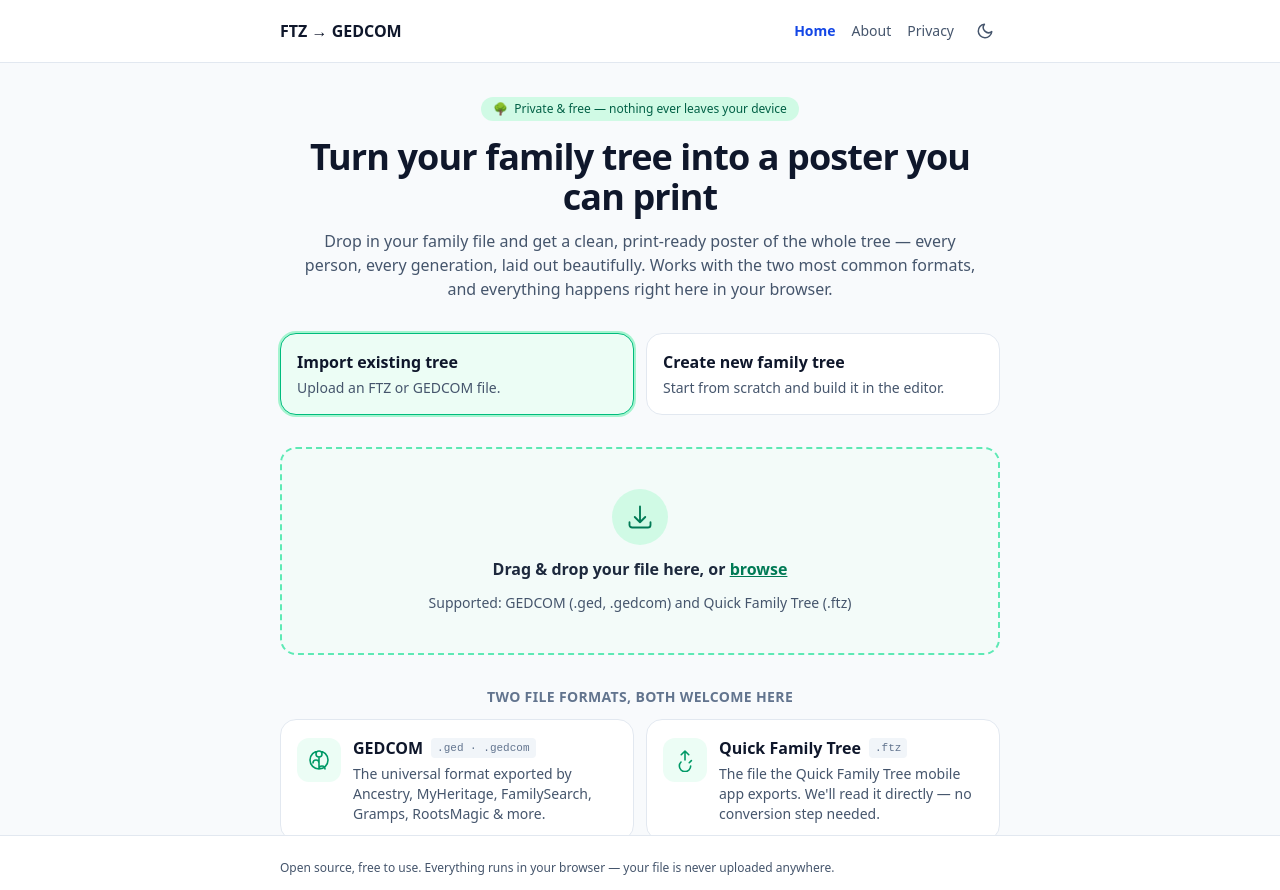
Create new family tree › walks the wizard and lands in the editor with the new root person
Click the button "Create new family tree": click(823, 374) top-left (646, 333), bottom-right (1000, 415)
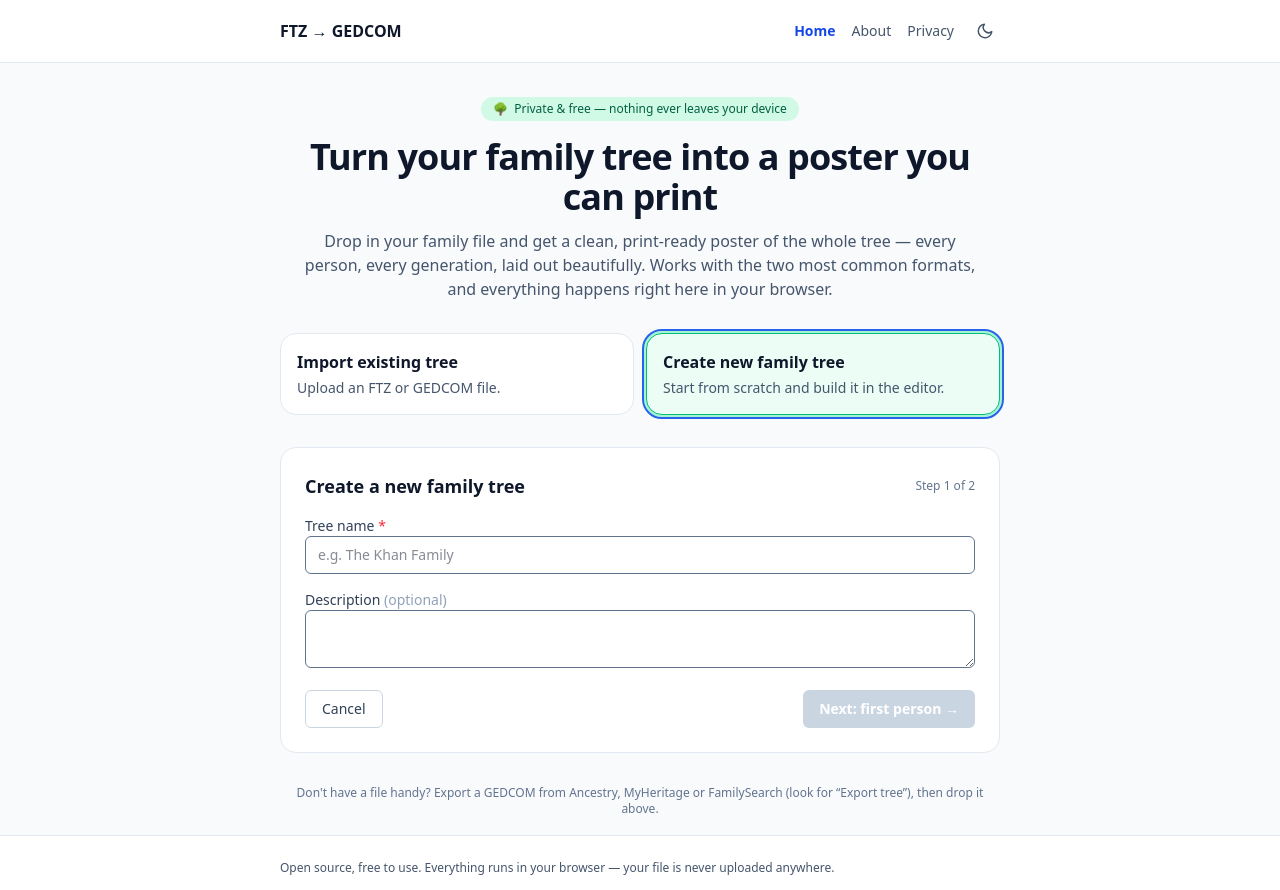
In the field labelled "Tree name *": (640, 555) top-left (305, 536), bottom-right (975, 574), type "My Family"
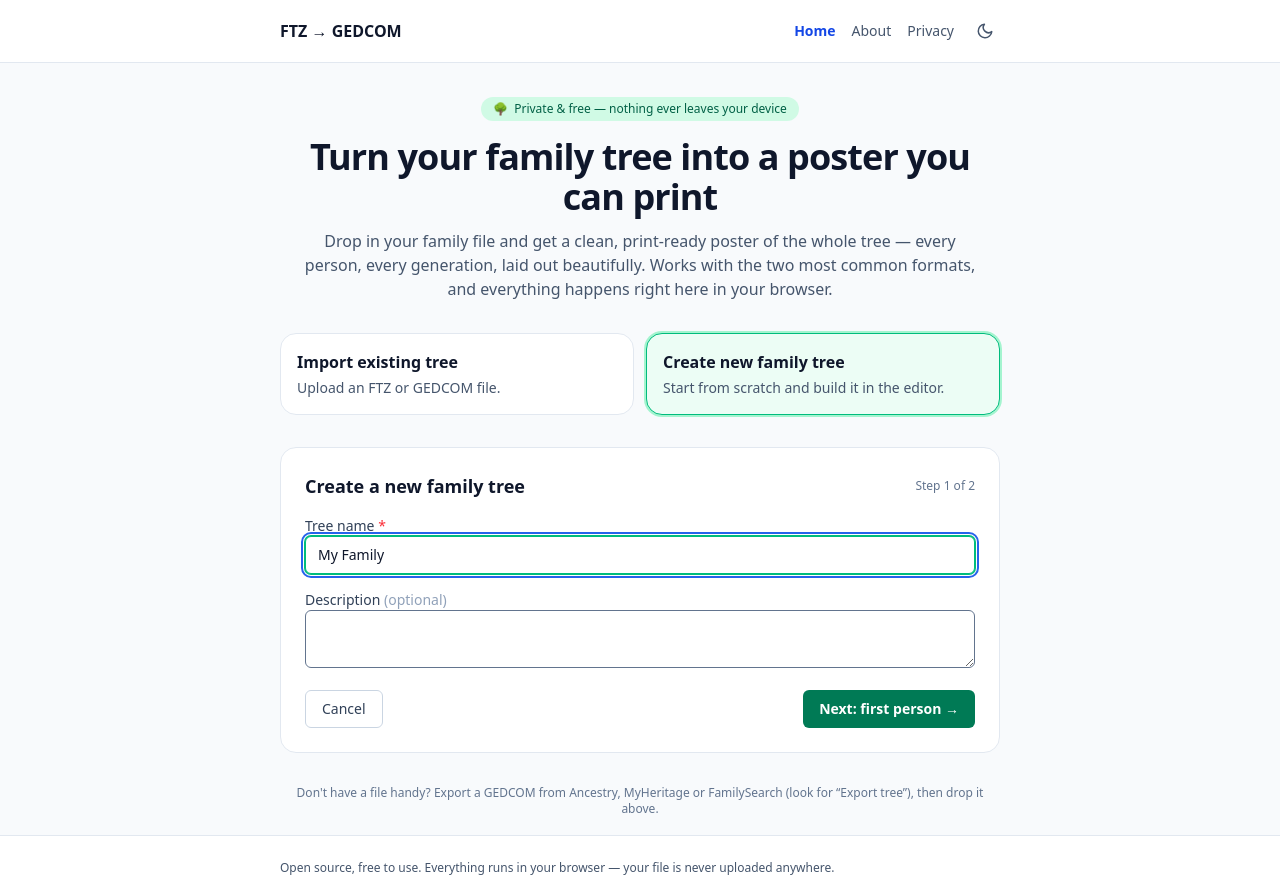
Click the button "Next: first person →": click(889, 709) top-left (803, 690), bottom-right (975, 728)
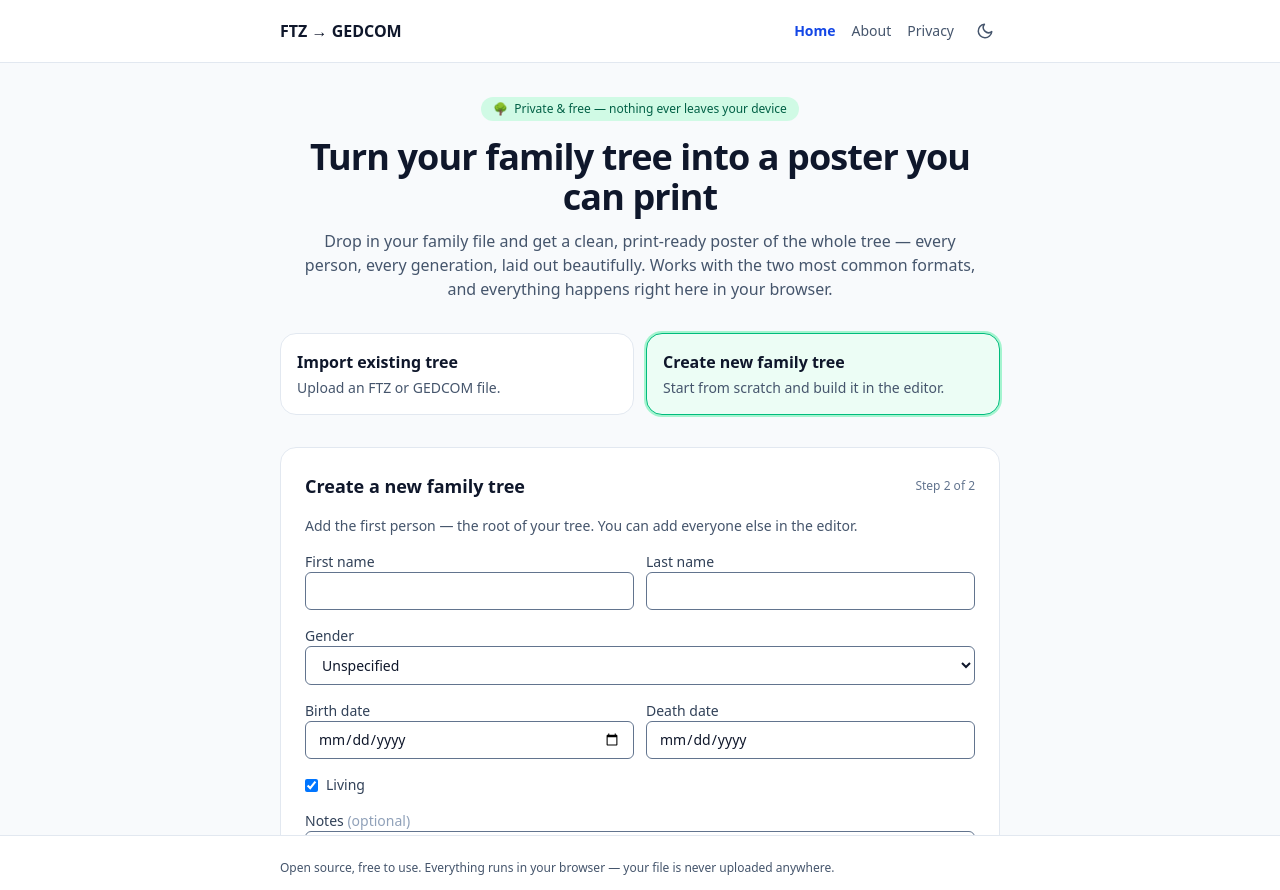
In the field labelled "First name": (470, 591) top-left (305, 572), bottom-right (634, 610), type "Root"
In the field labelled "Last name": (810, 591) top-left (646, 572), bottom-right (975, 610), type "Person"
(page scrolled)
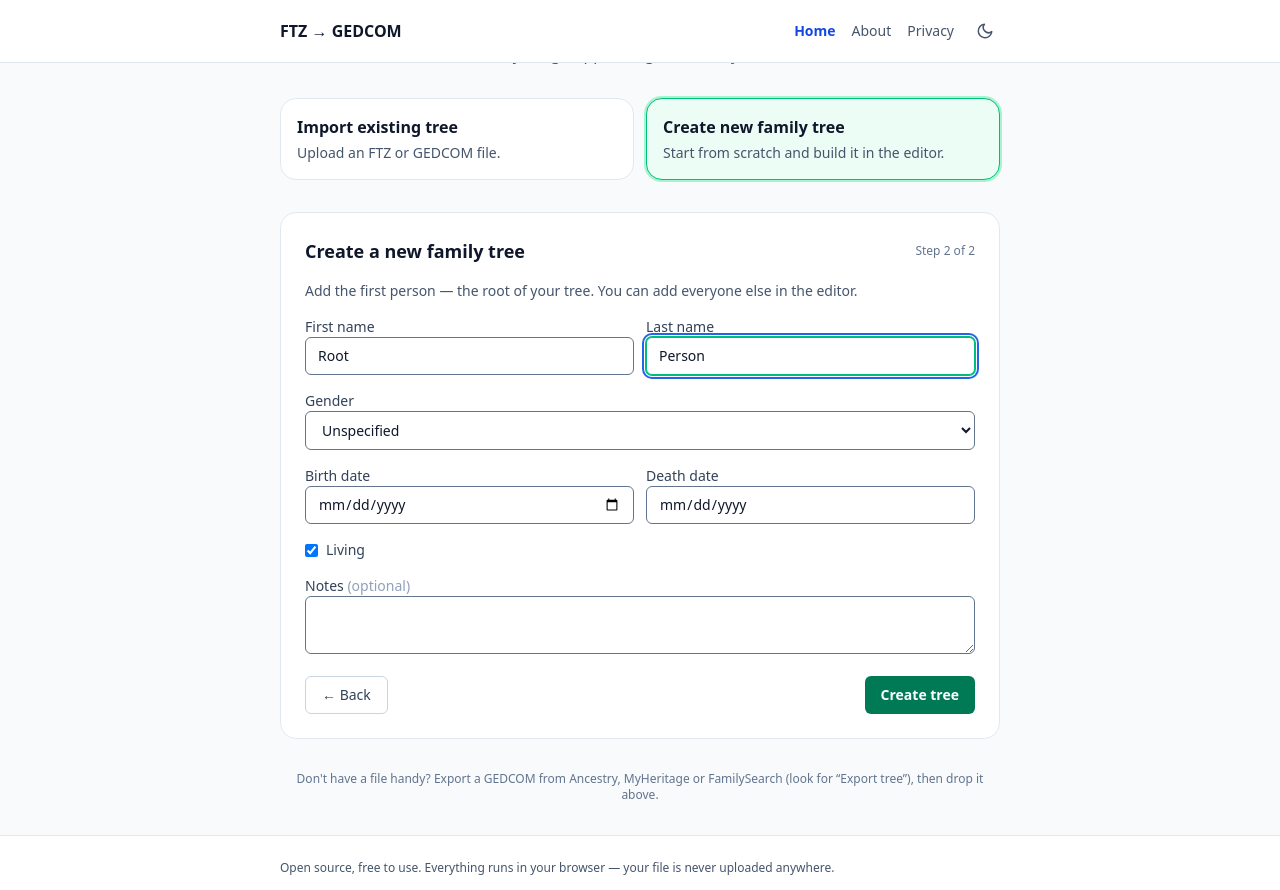
Click the button "Create tree": click(920, 695) top-left (865, 676), bottom-right (975, 714)
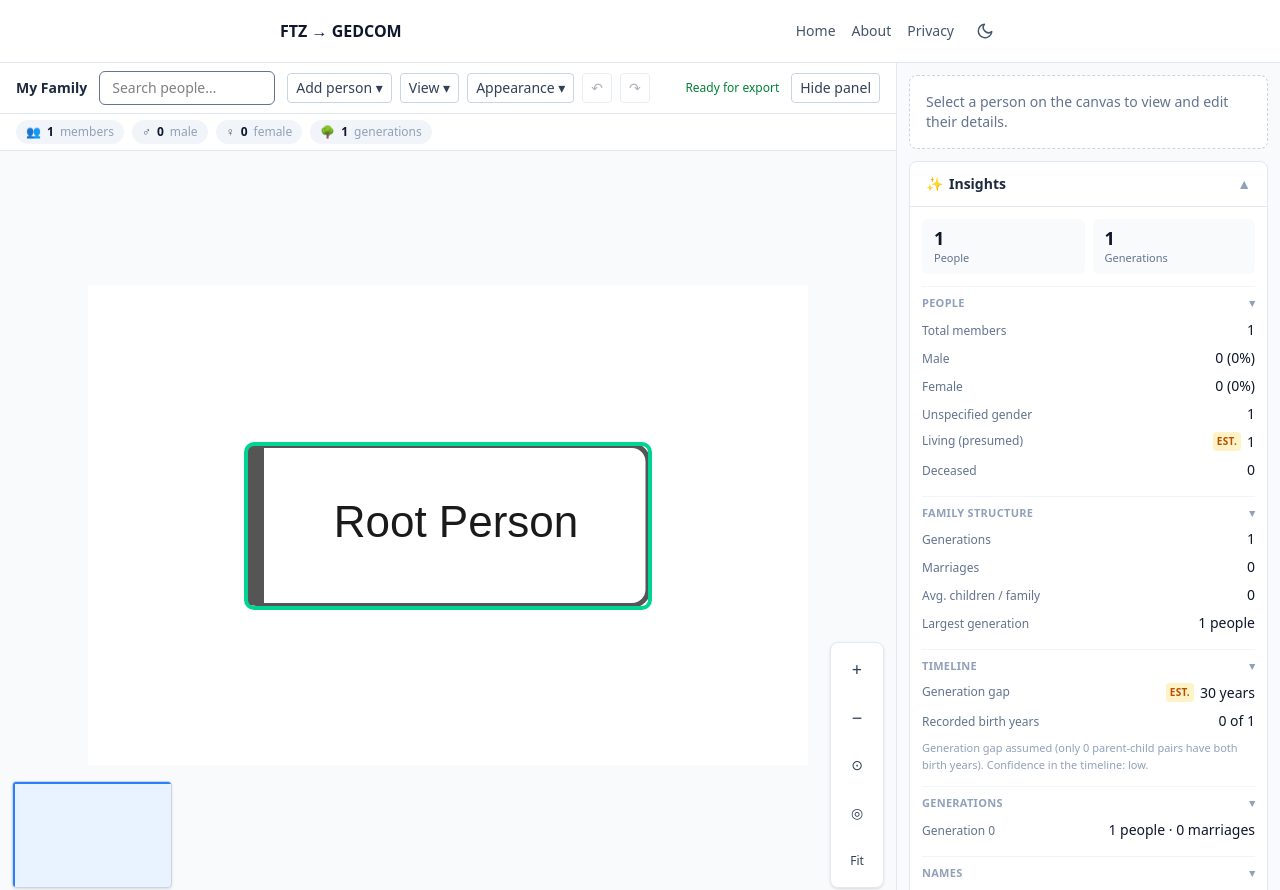
Now the text "My Family" is shown, box top-left (16, 78), bottom-right (87, 98)
In the dropdown labelled "Search people…": (187, 88) top-left (99, 71), bottom-right (275, 105), type "Root"
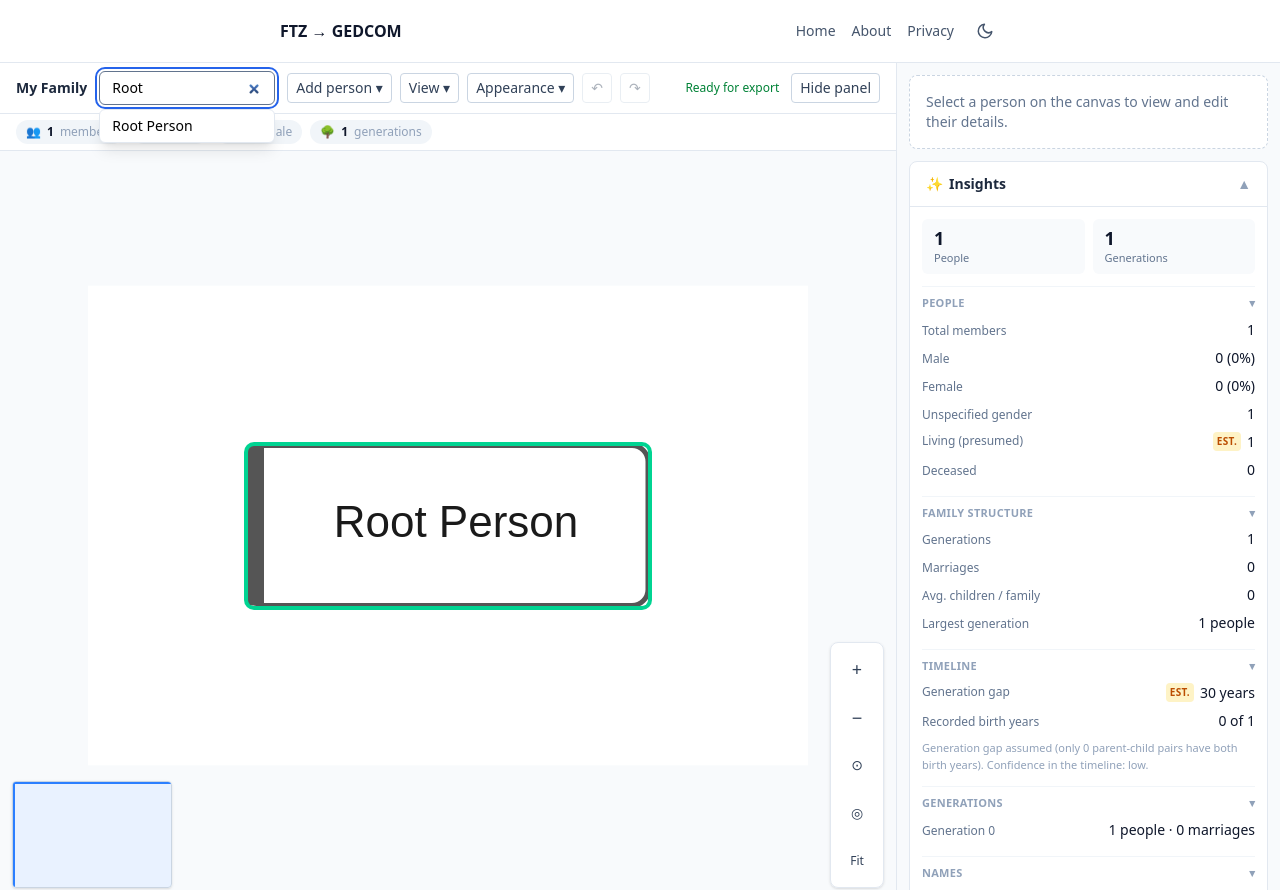
Now the option "Root Person" is shown, box top-left (100, 110), bottom-right (274, 142)
